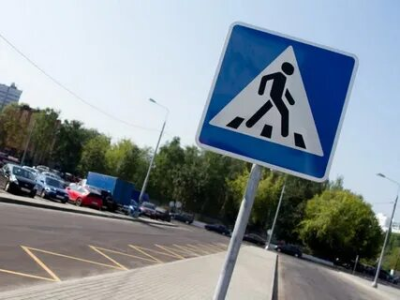crosswalk: (208, 38, 329, 164)
